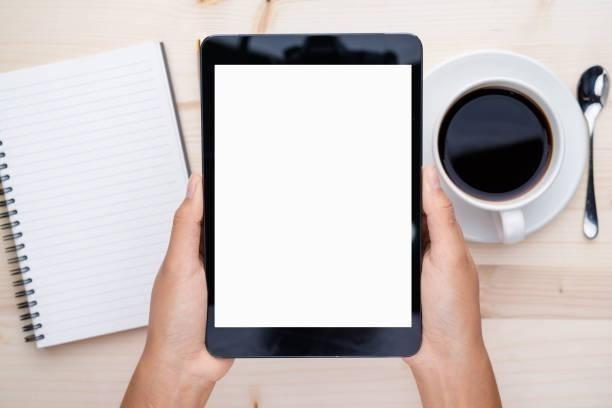cup-handle: (432, 76, 567, 245)
